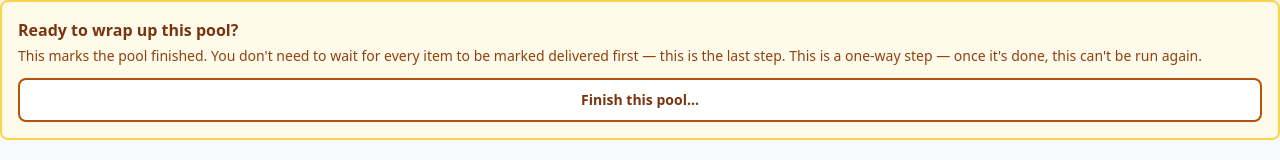
Test: CompletePoolAction › cancelling backs out without calling the API
Click the button "Finish this pool…". click: (640,100)
box: [18,78,1262,122]
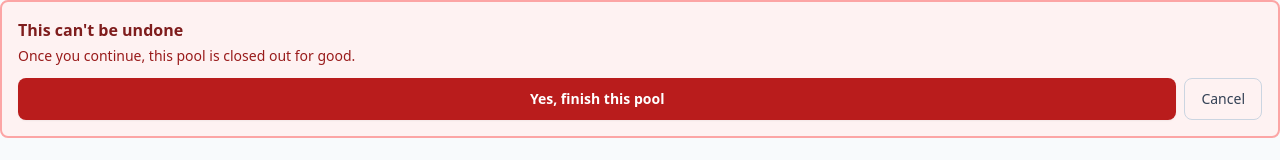
Click the button "Cancel". click: (1223,99)
box: [1184,78,1262,120]
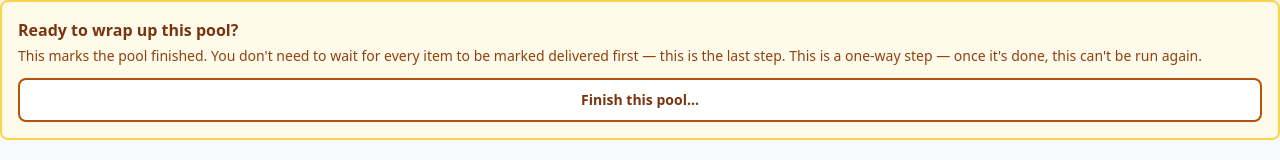
Expected: the button "Finish this pool…" is shown, [18,78,1262,122]
